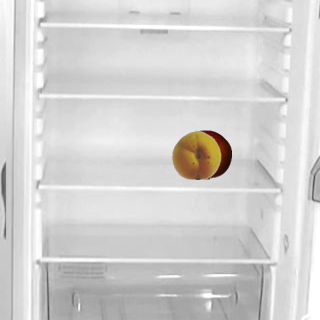Apple Braeburn: (181, 129, 231, 179)
Peach 2: (171, 129, 221, 179)
